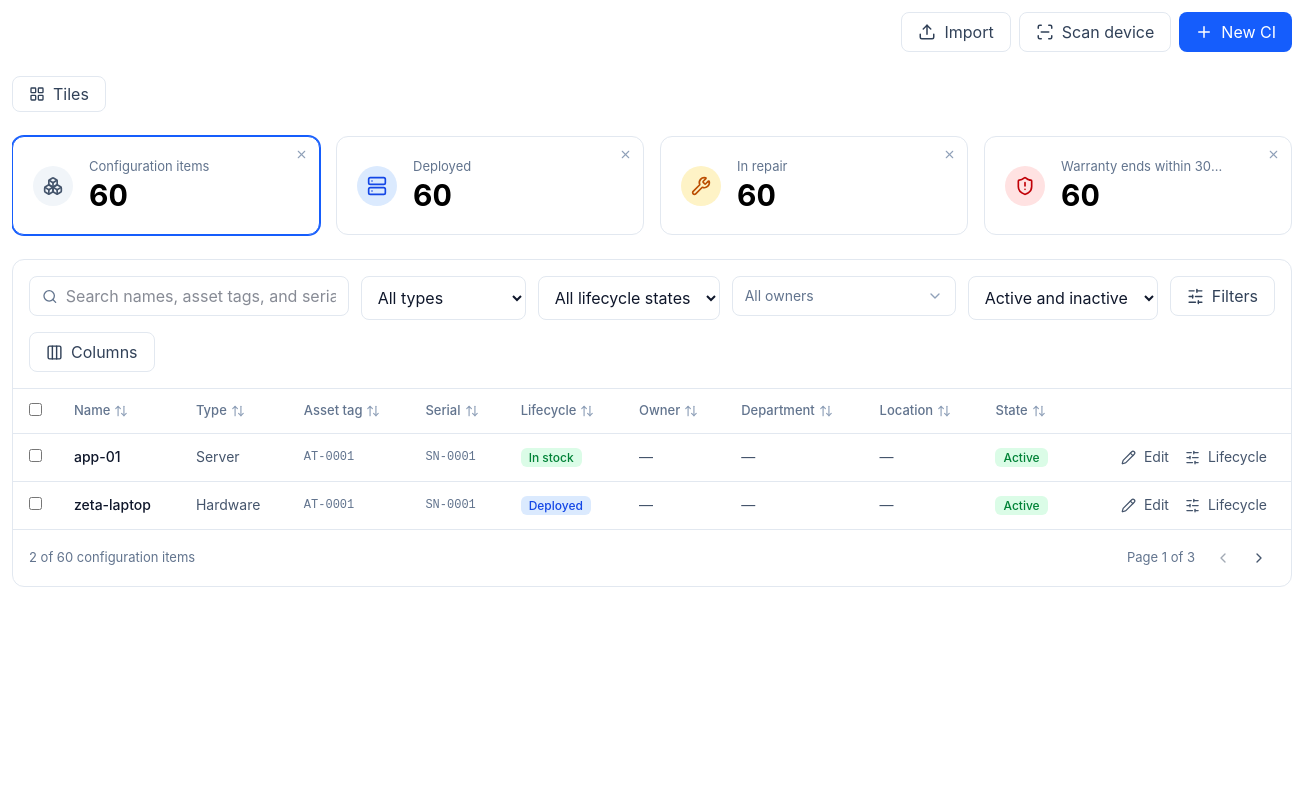
Test: CiListPage › sorting › says so when the sort covers only the page on screen
The width and height of the screenshot is (1304, 812).
expect the link "app-01" is shown: met, box [74,448,121,465]
expect the text "Sorted within this page" is not shown: met
Click the button with aria-label "Sort by lifecycle". click: click(558, 411)
box: [521,402,594,420]
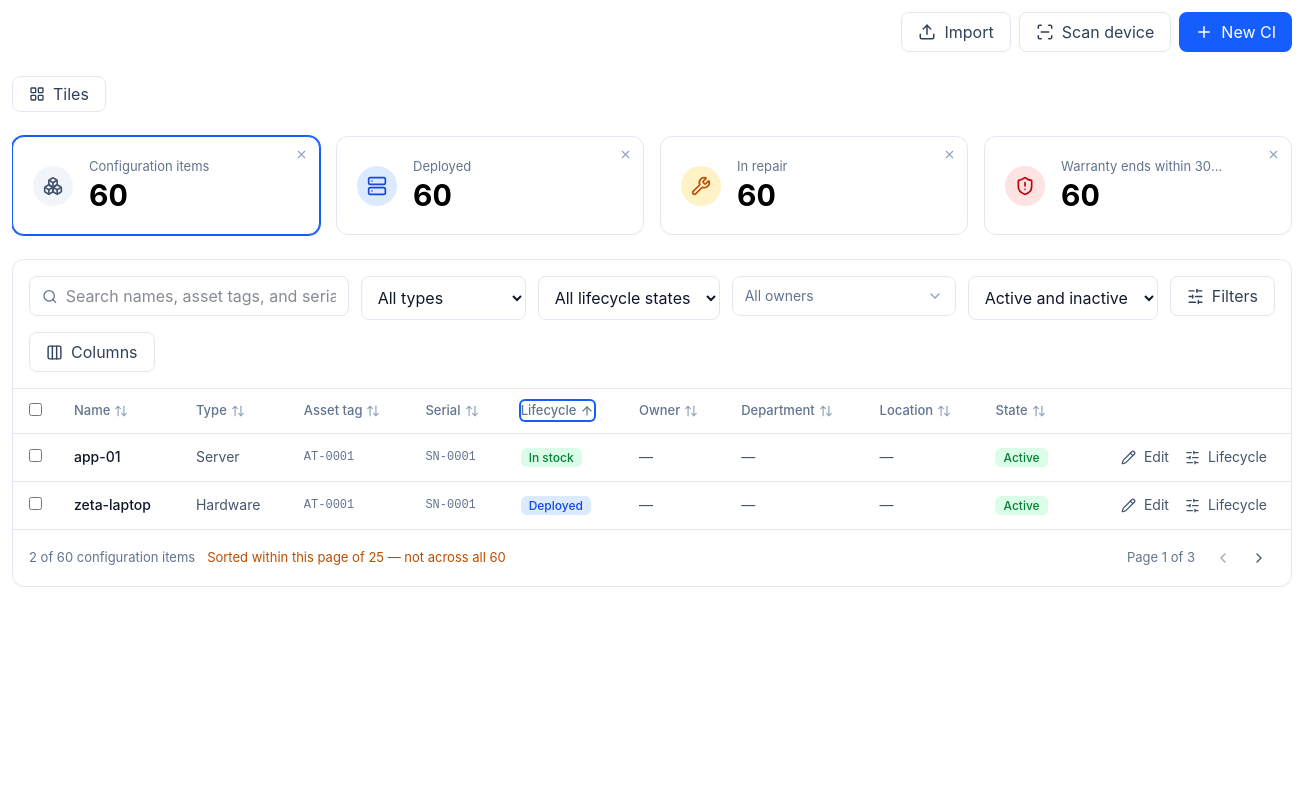
expect the text "Sorted within this page of 25 — not across all 60" is shown: met, box [207,548,506,568]
